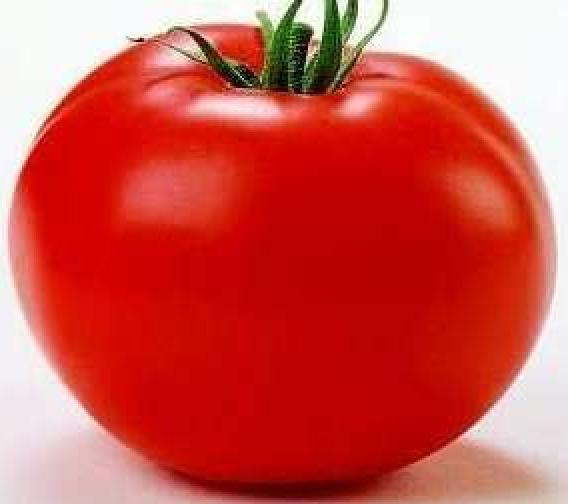tomato: (16, 32, 552, 490)
